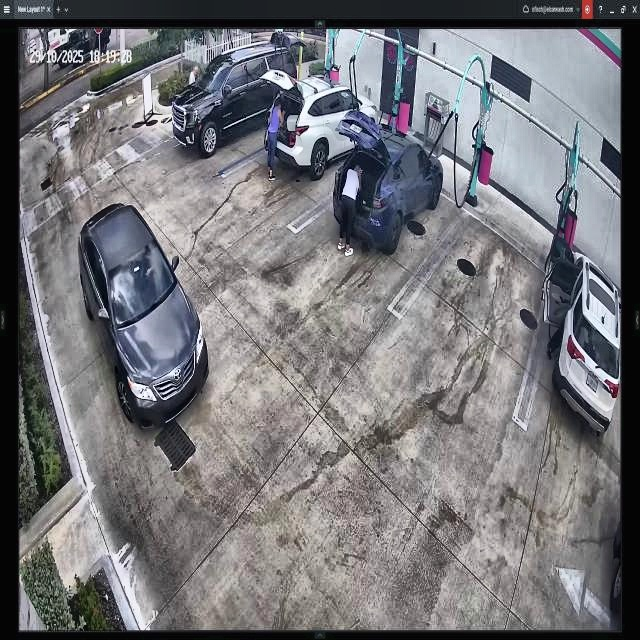Car: (79, 202, 209, 428), (333, 112, 444, 254), (264, 68, 378, 174)
